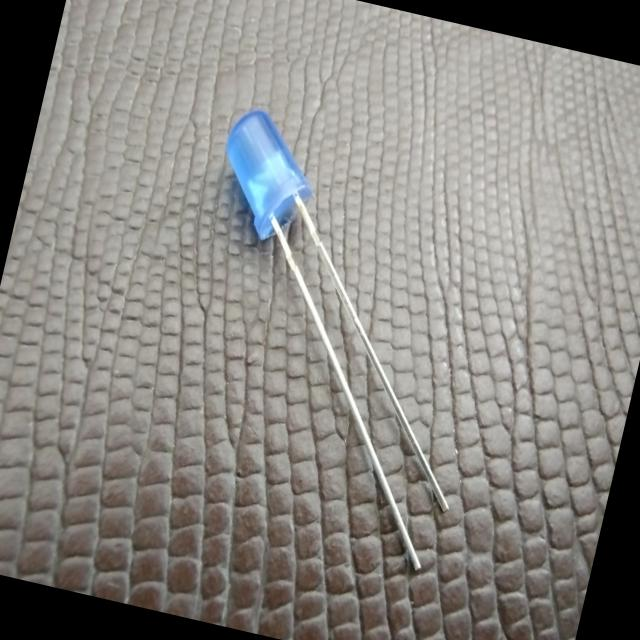blue_led: (205, 102, 328, 250)
